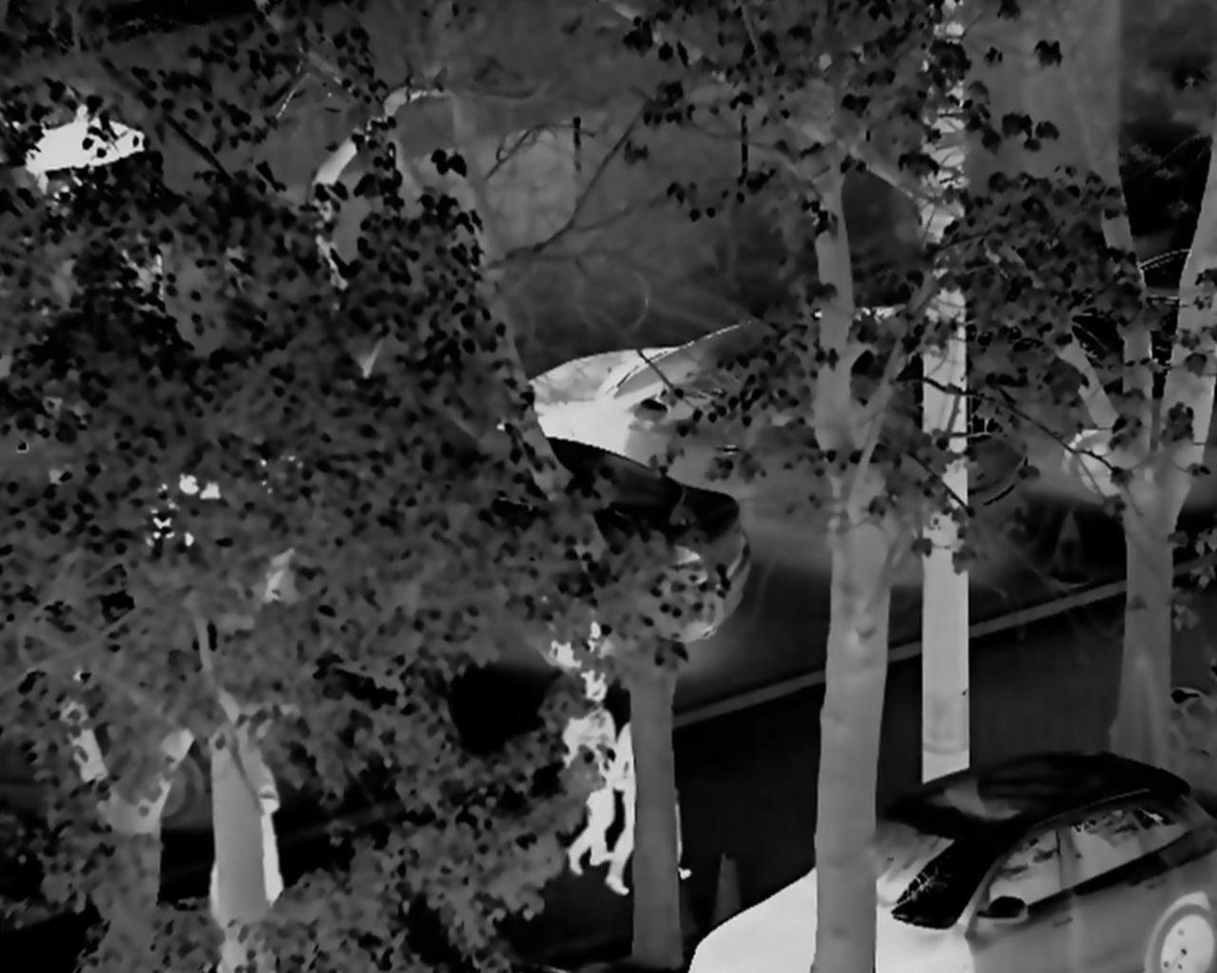person: (609, 709, 692, 893), (554, 679, 616, 874)
